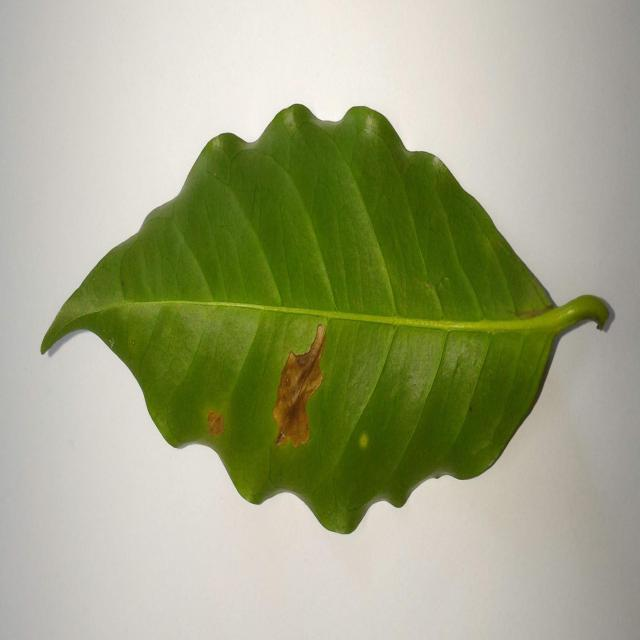miner: (273, 322, 326, 448), (202, 409, 224, 438)
rust: (358, 429, 370, 451)
